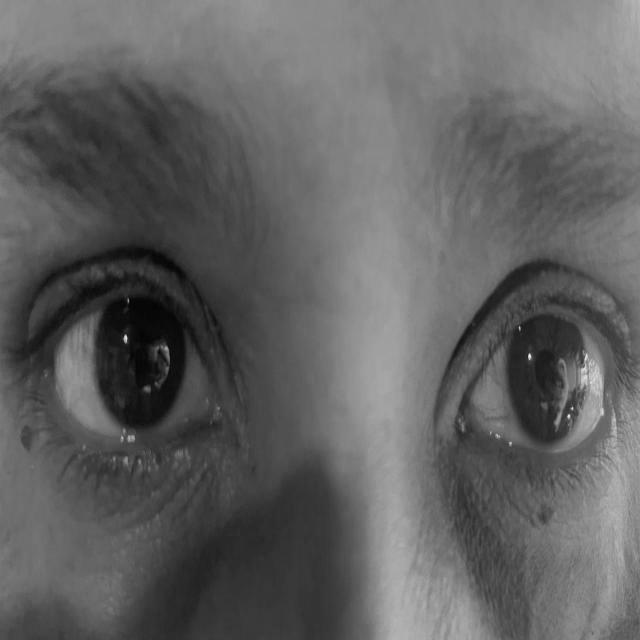real: (1, 142, 640, 547)
